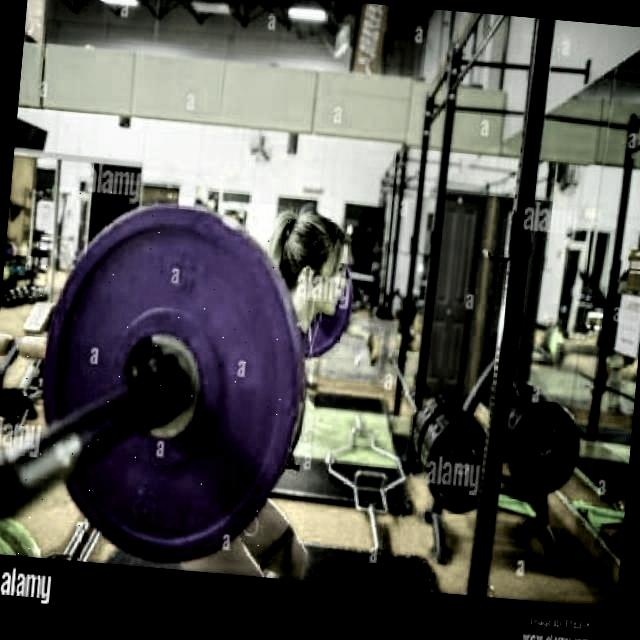barbell: (6, 185, 332, 580)
